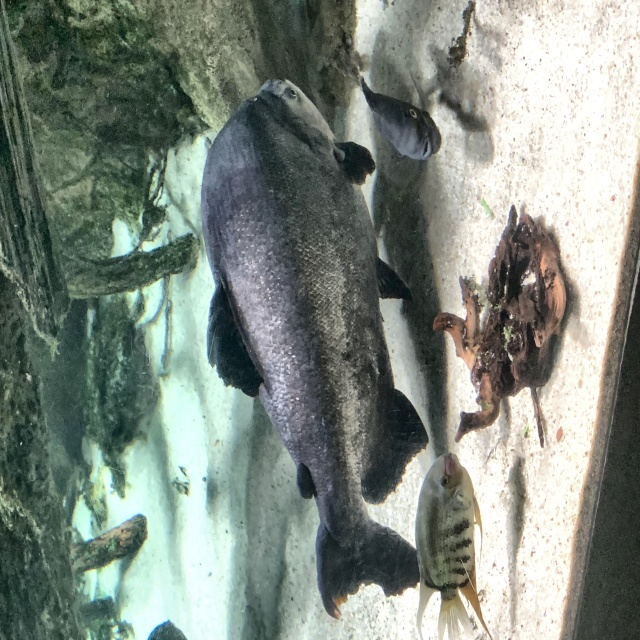fish: (201, 70, 436, 622), (416, 450, 492, 639), (360, 74, 441, 161)
